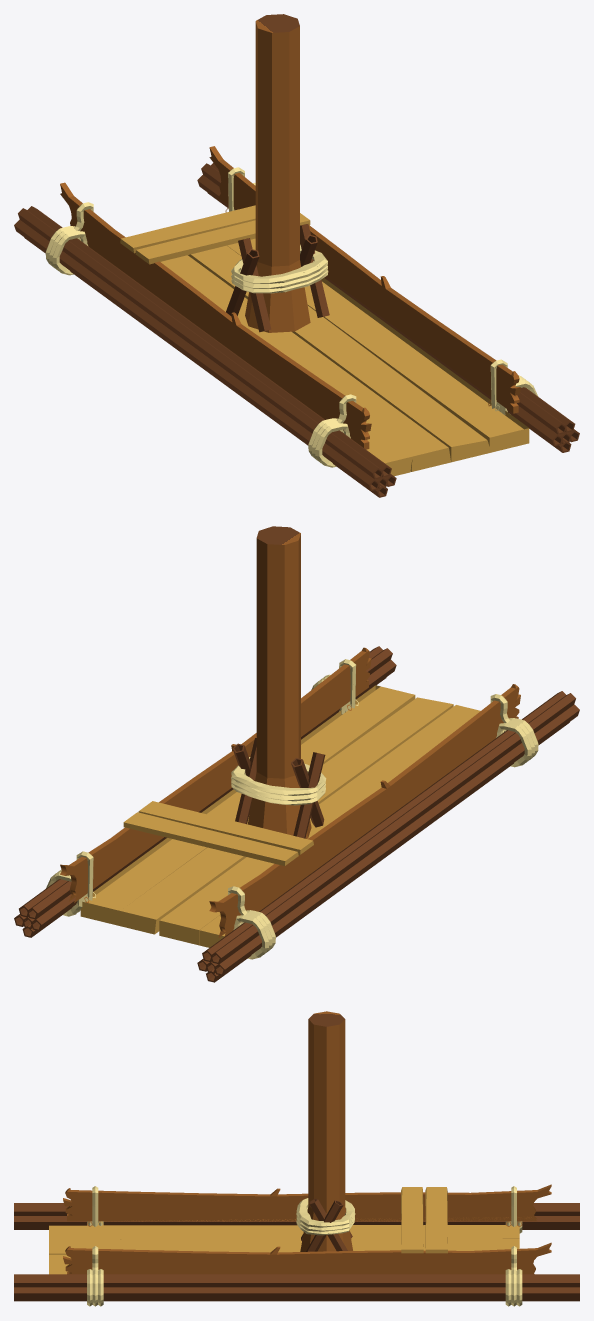
The model's file is barcoconpalo.fbx.
3 views of the same model, one above another, from view 1: azimuth 30°, elevation 25°; view 2: azimuth 150°, elevation 25°; view 3: azimuth 270°, elevation 25° (orthographic). The views are drawn at different scales.
Visible parts, largest first — view 1: Cube006.004; view 2: Cube006.004; view 3: Cube006.004.
Part boxes in pixels (left/top/right/bottom): Cube006.004: left=14, top=14, right=579, bottom=497; Cube006.004: left=14, top=526, right=579, bottom=982; Cube006.004: left=14, top=1011, right=579, bottom=1306.
Bounding box in the file's own units: 532 × 716 × 1466.
